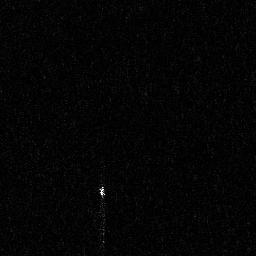ship: (98, 183, 107, 248)
